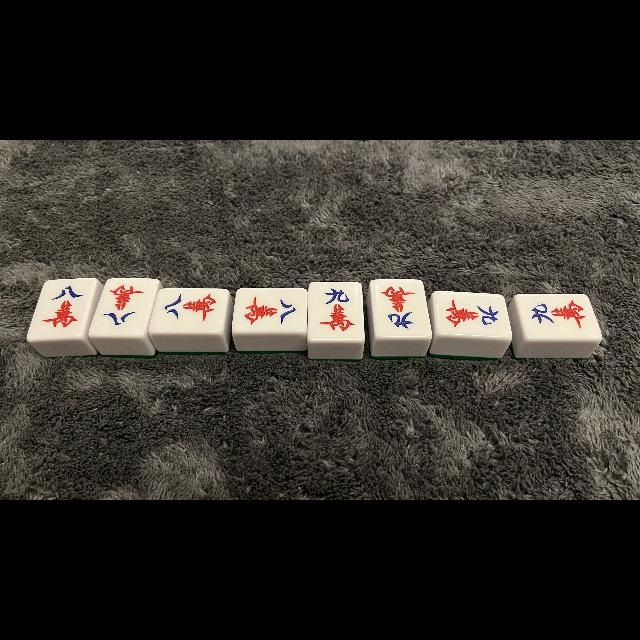c8: (236, 288, 304, 332), (37, 278, 87, 336), (153, 288, 223, 329), (97, 279, 147, 335)
c9: (521, 294, 595, 338), (435, 292, 505, 336), (310, 282, 362, 338), (374, 280, 424, 336)
